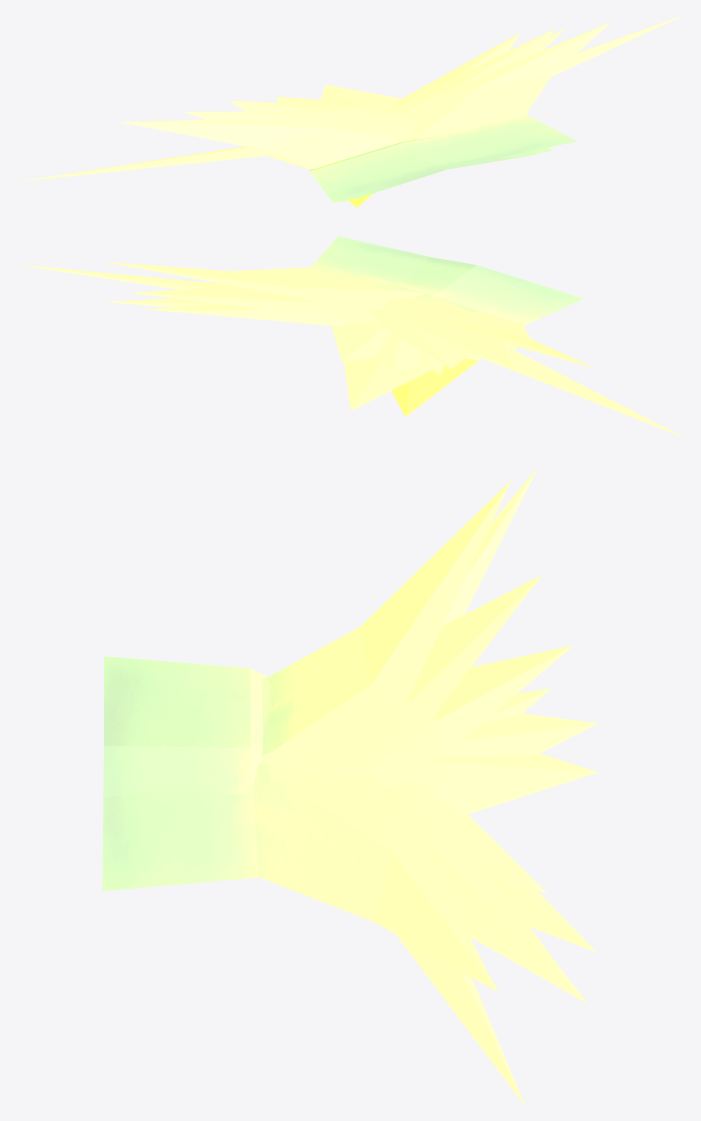
File: grass.glb
3 renders of one model, top to bottom at view 1: azimuth 30°, elevation 25°; view 2: azimuth 150°, elevation 25°; view 3: azimuth 270°, elevation 25°, orthographic. The views are drawn at different scales.
Visible parts, largest first — view 1: grass1.009, grass1.007, grass1.002, grass1.008, grass1.017, grass1.006, grass1.004, grass1.005, grass1.016, grass1.013, grass1.010, grass1.001; view 2: grass1.009, grass1.002, grass1.007, grass1.008, grass1.017, grass1.005, grass1.006, grass1.001, grass1.016, grass1.004, grass1.013, grass1.010 (+1 smaller); view 3: grass1.009, grass1.007, grass1.002, grass1.008, grass1.006, grass1.005, grass1.004, grass1.016, grass1.010, grass1.013, grass1.017, grass1.012.
Part boxes in pixels (bbox=[...]): grass1.009: bbox=[400, 22, 611, 169]; grass1.007: bbox=[120, 116, 445, 202]; grass1.002: bbox=[310, 135, 545, 202]; grass1.008: bbox=[388, 29, 553, 112]; grass1.017: bbox=[16, 146, 311, 181]; grass1.006: bbox=[183, 111, 411, 152]; grass1.004: bbox=[321, 85, 552, 202]; grass1.005: bbox=[230, 100, 403, 202]; grass1.016: bbox=[398, 33, 519, 103]; grass1.013: bbox=[551, 15, 684, 76]; grass1.010: bbox=[276, 96, 337, 105]; grass1.001: bbox=[348, 153, 537, 207]; grass1.009: bbox=[106, 236, 429, 310]; grass1.002: bbox=[344, 257, 583, 410]; grass1.007: bbox=[385, 297, 593, 367]; grass1.008: bbox=[130, 286, 376, 322]; grass1.017: bbox=[471, 326, 684, 437]; grass1.005: bbox=[369, 305, 523, 369]; grass1.006: bbox=[381, 294, 514, 368]; grass1.001: bbox=[391, 354, 480, 416]; grass1.016: bbox=[146, 304, 354, 326]; grass1.004: bbox=[331, 320, 391, 362]; grass1.013: bbox=[15, 264, 234, 289]; grass1.010: bbox=[375, 332, 421, 374]; grass1.009: bbox=[102, 762, 497, 991]; grass1.007: bbox=[266, 480, 511, 781]; grass1.002: bbox=[104, 656, 546, 892]; grass1.008: bbox=[385, 779, 560, 968]; grass1.006: bbox=[260, 575, 541, 780]; grass1.005: bbox=[262, 646, 572, 788]; grass1.004: bbox=[401, 753, 598, 815]; grass1.016: bbox=[436, 800, 595, 951]; grass1.010: bbox=[444, 713, 597, 755]; grass1.013: bbox=[396, 934, 524, 1105]; grass1.017: bbox=[442, 468, 537, 625]; grass1.012: bbox=[469, 935, 587, 1003].
Bounding box in the file's own units: 6.25 × 1.06 × 2.01.
